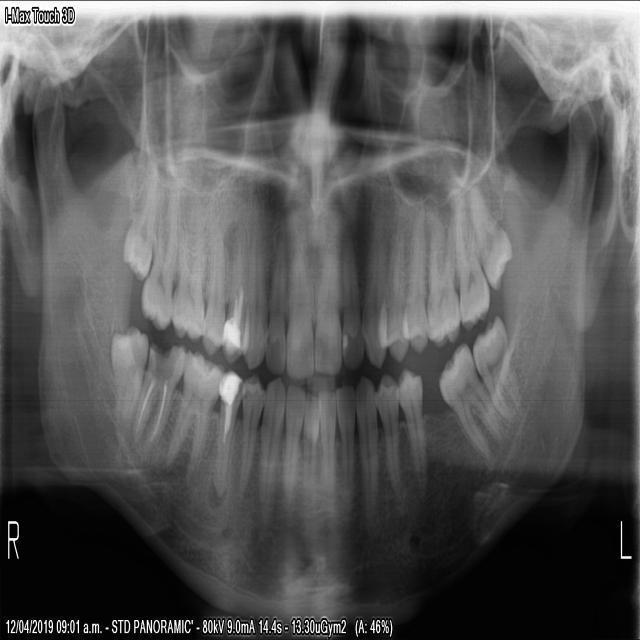LCD: (351, 367, 381, 531)
LCU: (360, 200, 389, 370)
LID: (334, 375, 355, 498), (316, 380, 335, 503)
LIU: (311, 237, 341, 379), (339, 233, 364, 374)
LMD: (435, 336, 507, 477), (469, 302, 526, 428)
LMU: (450, 187, 492, 336), (423, 204, 462, 354), (467, 176, 515, 297)
LPMD: (394, 361, 430, 501), (371, 367, 405, 503)
LPMU: (375, 208, 411, 367), (399, 202, 430, 355)
RCD: (254, 369, 284, 521)
RCU: (239, 177, 268, 372)
RID: (279, 376, 306, 507), (298, 385, 322, 508)
RIU: (283, 235, 314, 382), (261, 227, 286, 376)
RMD: (159, 341, 224, 487), (127, 328, 187, 458), (105, 316, 150, 449)
RMU: (137, 188, 178, 332), (168, 204, 207, 344), (118, 163, 161, 287)
RPMD: (208, 364, 246, 506), (233, 371, 265, 513)
RPMU: (218, 213, 250, 364), (197, 213, 226, 356)
